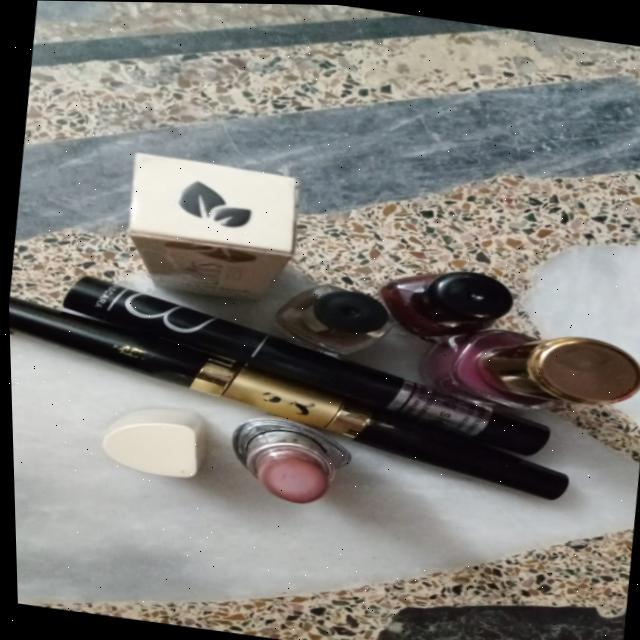foundation: (116, 143, 326, 298)
lip stick: (101, 403, 369, 515)
mascara: (42, 264, 581, 456)
nail polish: (300, 241, 640, 431)
